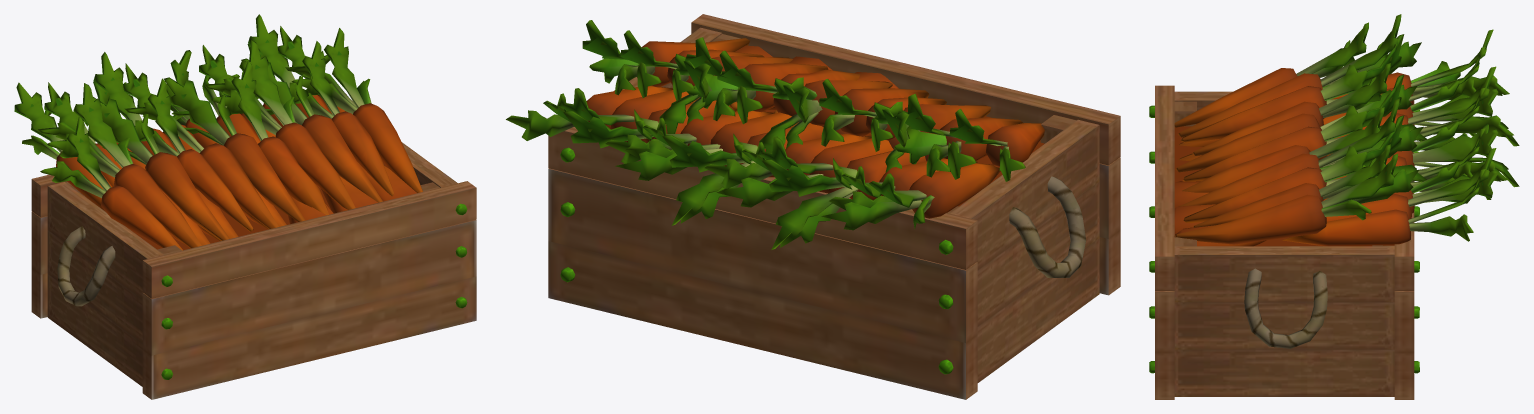
The model's file is p_FarmCrate_Carrot.glb.
3 renders of one model, left to right at view 1: azimuth 30°, elevation 25°; view 2: azimuth 150°, elevation 25°; view 3: azimuth 270°, elevation 25°, orthographic. The views are drawn at different scales.
Parts seen in each view (by area): view 1: FarmCrate_Carrot; view 2: FarmCrate_Carrot; view 3: FarmCrate_Carrot.
Boxes of the visible parts, bbox=[...] form: FarmCrate_Carrot: bbox=[14, 14, 476, 399]; FarmCrate_Carrot: bbox=[506, 14, 1120, 399]; FarmCrate_Carrot: bbox=[1149, 14, 1519, 399].
Size of the model in its own units: 0.7138 by 0.4113 by 0.567.
3 materials, 3 textured.
